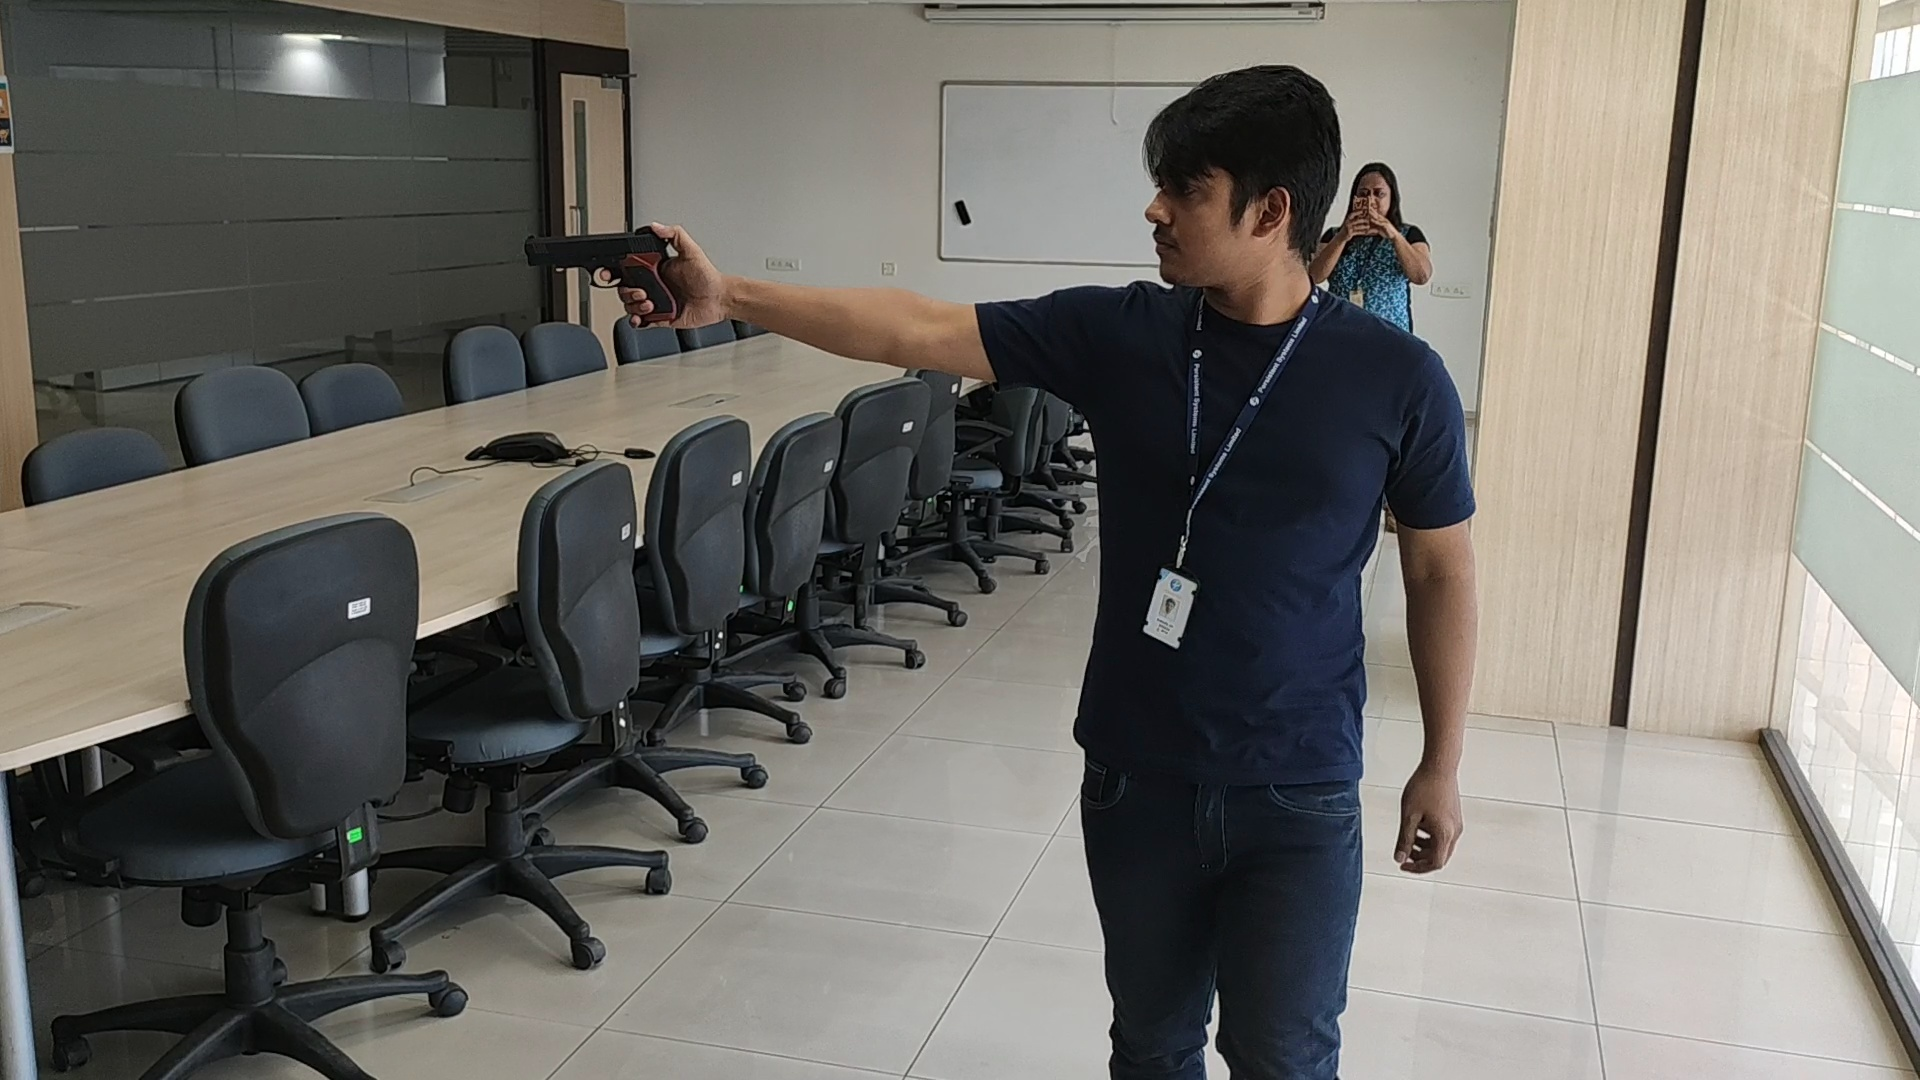gun: (522, 229, 680, 314)
